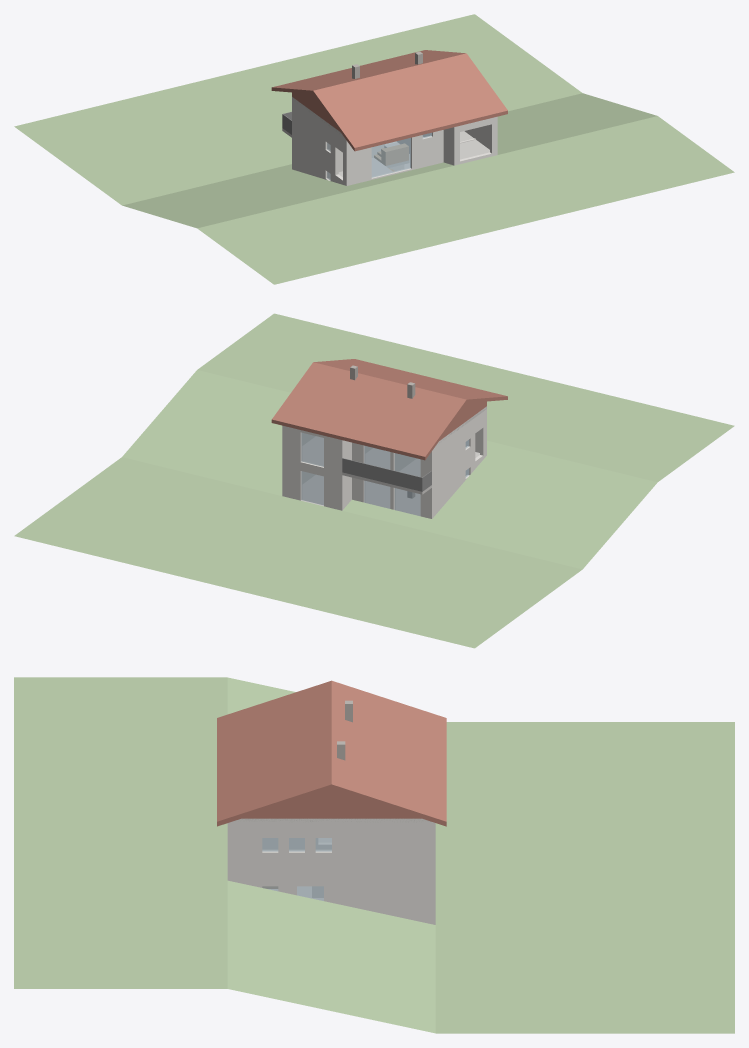
The model's file is haus-tannheim-3d.glb.
3 views of the same model, one above another, from view 1: azimuth 30°, elevation 25°; view 2: azimuth 150°, elevation 25°; view 3: azimuth 270°, elevation 25° (orthographic). The views are drawn at different scales.
Visible parts, largest first — view 1: Gelaende__gelaende, Dach__dach, EG__wand, GG__wand, EG__glas, EG__decke, EG__treppe; view 2: Gelaende__gelaende, Dach__dach, EG__wand, GG__wand, GG__glas, EG__glas, GG__decke, EG__decke, EG__gelaender; view 3: Gelaende__gelaende, Dach__dach, EG__wand, GG__wand, EG__glas.
Part boxes in pixels (x1,y1,x2,y2): Gelaende__gelaende: (14,14,734,284); Dach__dach: (271,50,507,151); EG__wand: (292,97,497,177); GG__wand: (292,131,497,185); EG__glas: (327,133,431,177); EG__decke: (282,128,489,177); EG__treppe: (374,143,408,165); Gelaende__gelaende: (14,313,734,648); Dach__dach: (271,359,507,460); EG__wand: (282,406,486,487); GG__wand: (282,446,486,518); GG__glas: (301,468,468,515); EG__glas: (301,433,468,476); GG__decke: (301,475,420,515); EG__decke: (302,436,479,494); EG__gelaender: (342,458,431,491); Gelaende__gelaende: (14,677,734,1033); Dach__dach: (217,680,446,826); EG__wand: (227,818,435,875); GG__wand: (227,849,435,924); EG__glas: (262,838,331,851).
Bounding box in the file's own units: 34.49 × 8.3 × 33.74.
